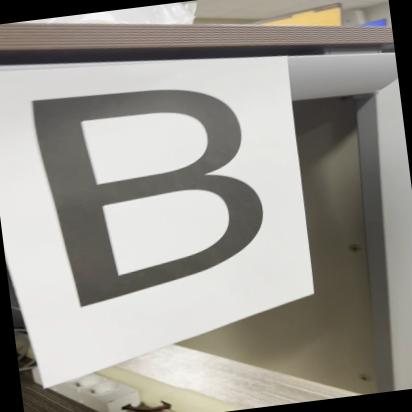seat: (0, 56, 323, 324)
